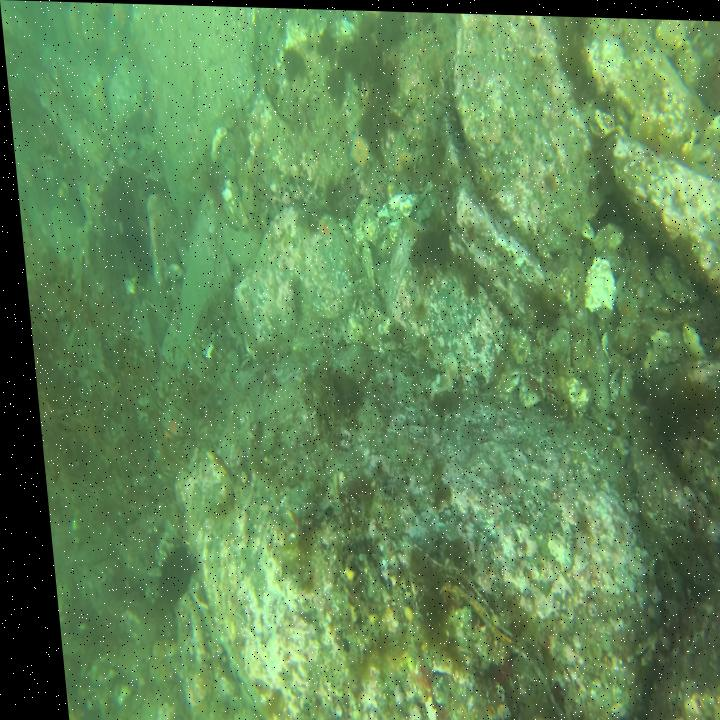echinus: (143, 543, 192, 605)
